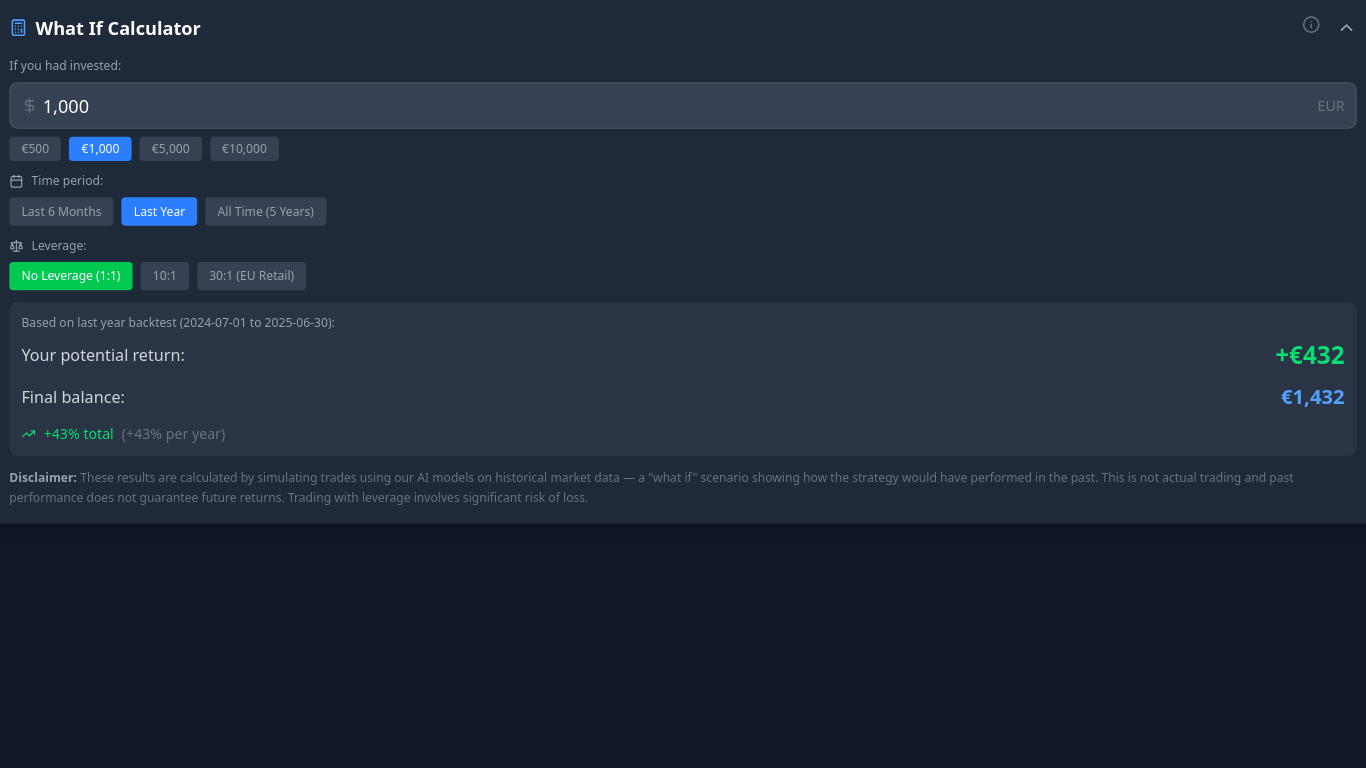
Test: InvestmentCalculator › updates calculations when investment amount changes
Replace the text in the field named "Investment amount" with "10000" at (683, 105), box 9,82 -> 1357,129
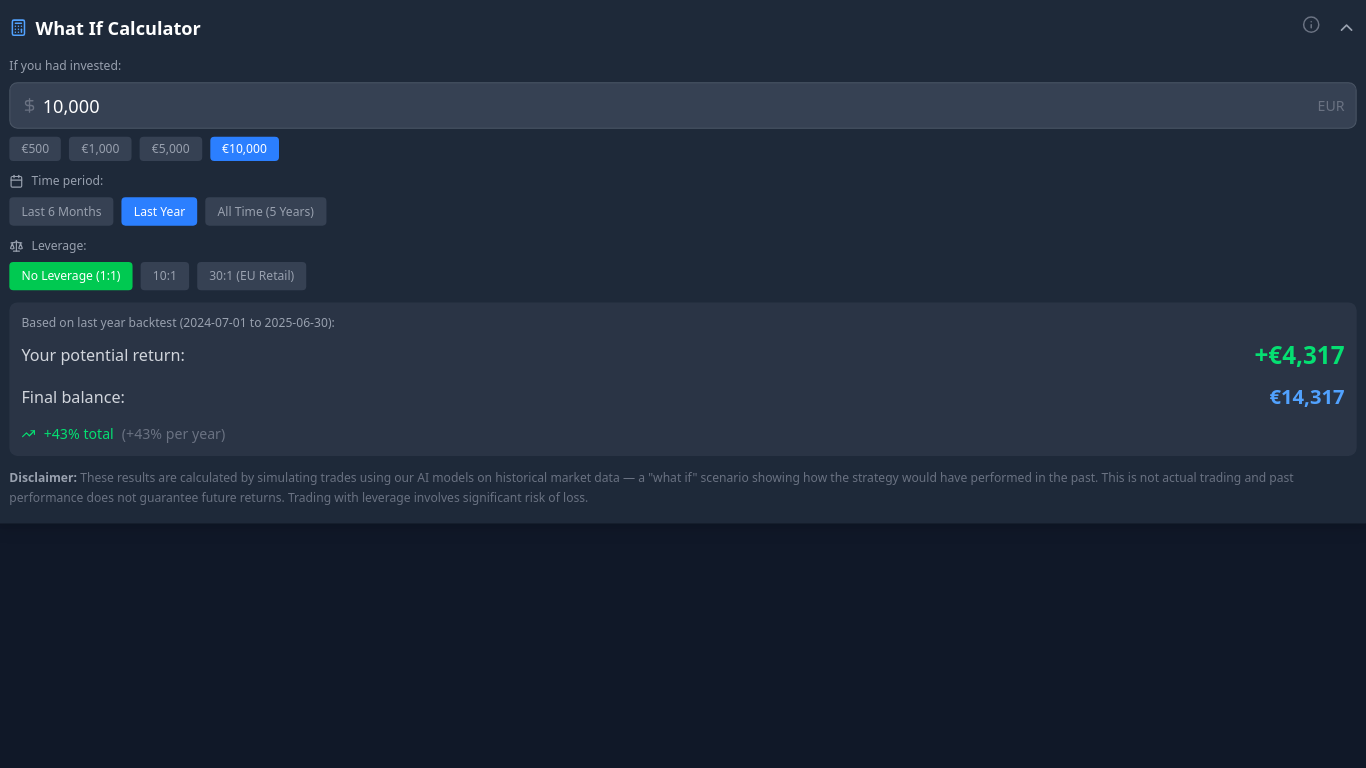
Now the text "+€4,317" is shown, box 1254,339 -> 1344,371
Now the text "€14,317" is shown, box 1269,383 -> 1344,412
